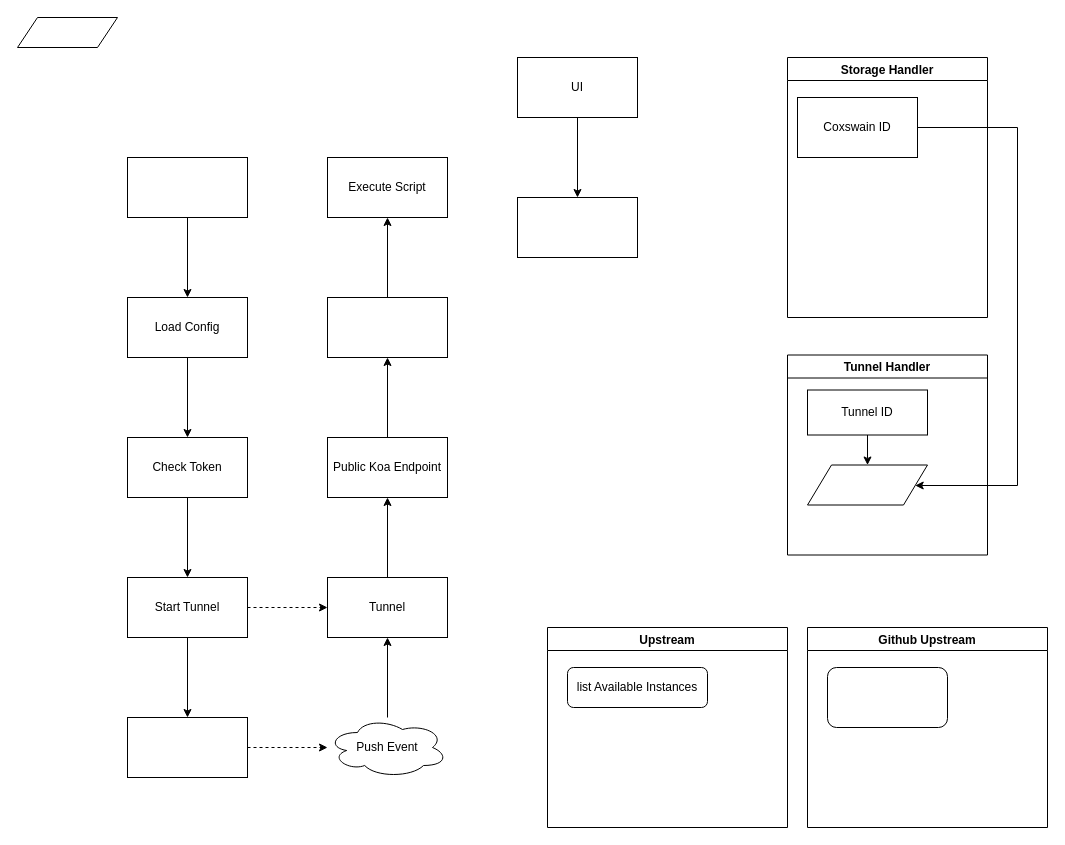
Some shapes in this 1065 by 845 pixel diagram are drawn without their labels. The centre of each missing label's shape, as x and y in pixels:
Git Pull: (x=387, y=327)
list: (x=887, y=697)
List Repositories: (x=577, y=227)
Observable: (x=67, y=32)
Register Hook: (x=187, y=747)
Start: (x=187, y=187)
Tunnel URL: (x=867, y=484)
